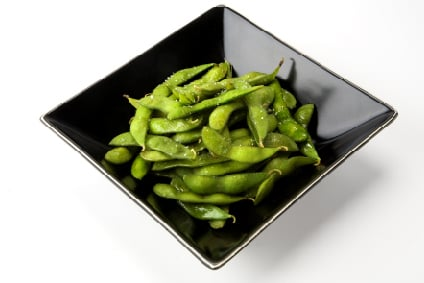sushi: (40, 5, 408, 271)
